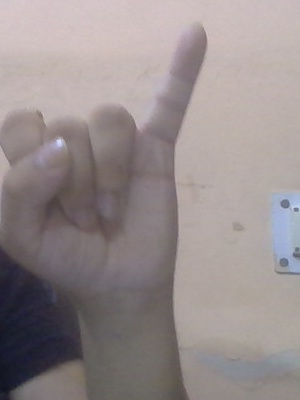I: (1, 16, 209, 225)
